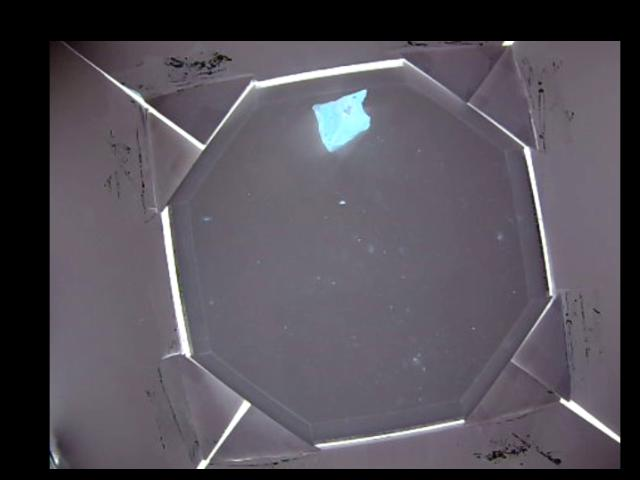Brisk: (312, 89, 370, 149)
